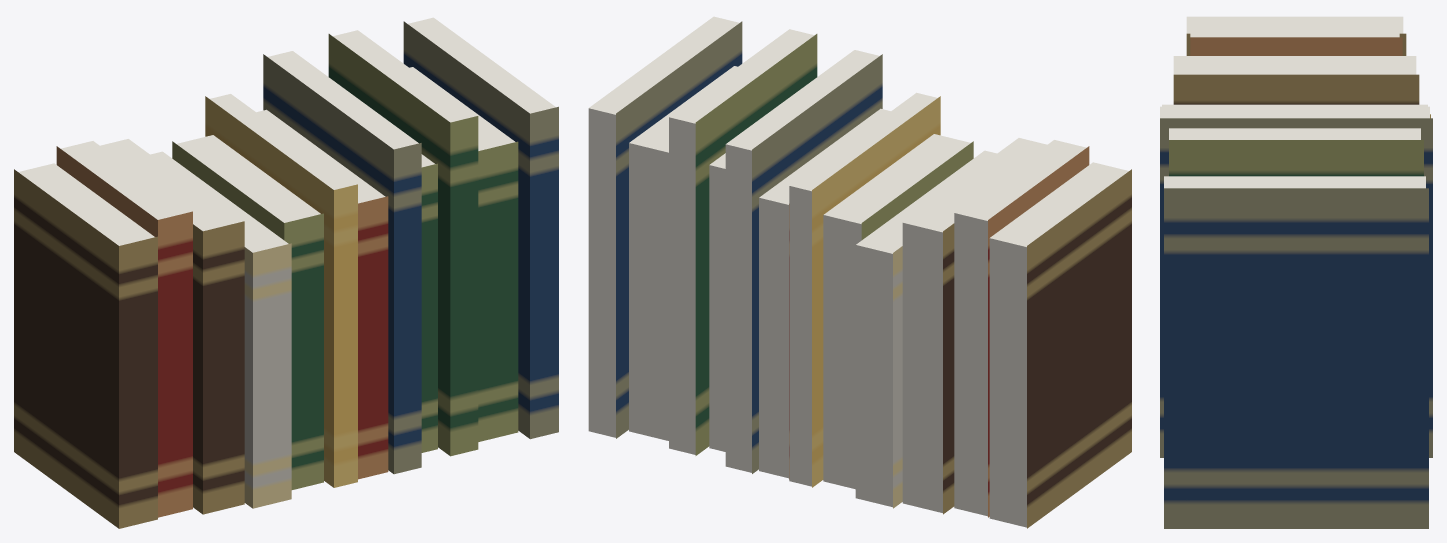
The picture shows the model from 3 angles, left to right: view 1: azimuth 30°, elevation 25°; view 2: azimuth 150°, elevation 25°; view 3: azimuth 270°, elevation 25°; orthographic projection. The views are drawn at different scales.
Parts seen in each view (by area): view 1: Row of books; view 2: Row of books; view 3: Row of books.
Boxes of the visible parts, x1,y1,x2,y2 form: Row of books: (14, 17, 558, 528); Row of books: (588, 16, 1131, 528); Row of books: (1160, 16, 1432, 528).
Bounding box in the file's own units: 0.3551 × 0.2641 × 0.187.
Materials: 2 (1 with a texture image).
